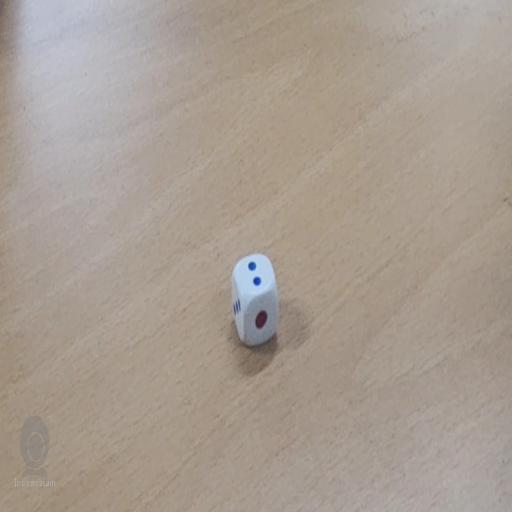dice_2: (230, 252, 280, 350)
